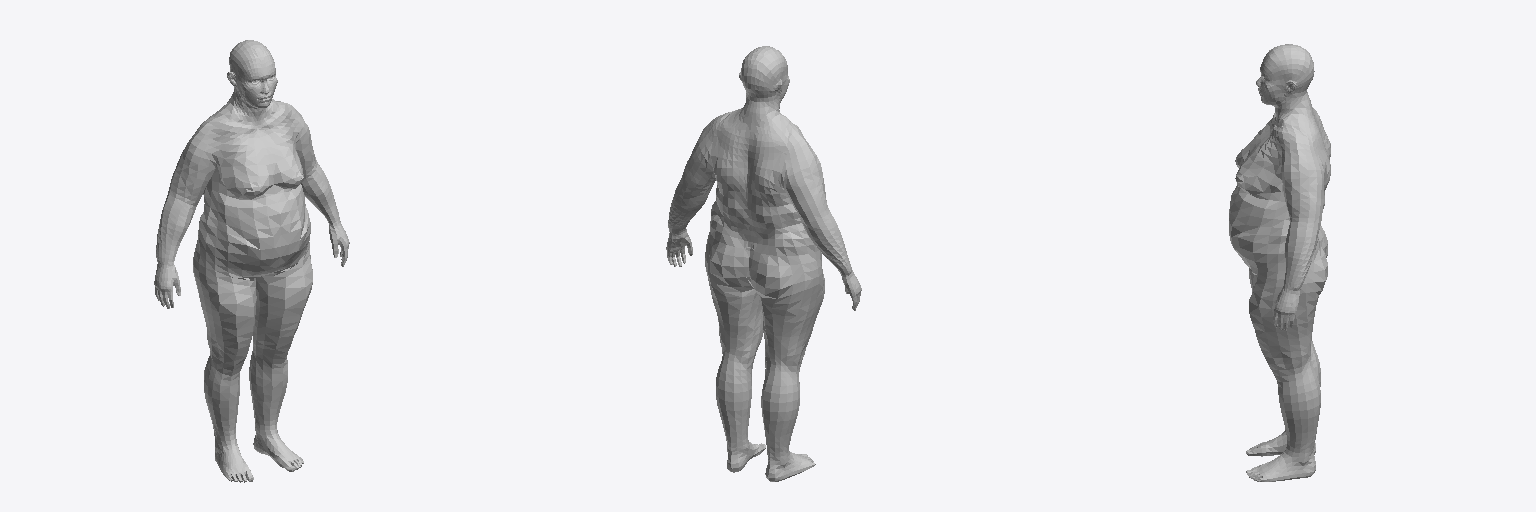
Rendered from maxwaist.obj.
3 renders of one model, left to right at view 1: azimuth 30°, elevation 25°; view 2: azimuth 150°, elevation 25°; view 3: azimuth 270°, elevation 25°, orthographic.
Size of the model in its own units: 0.787 by 1.66 by 0.3676.